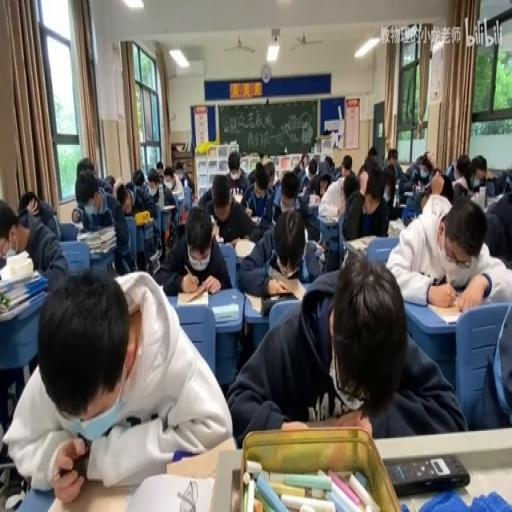calculator: (124, 471, 216, 512), (51, 469, 132, 512), (166, 435, 236, 479), (266, 273, 304, 302), (426, 302, 462, 324), (176, 287, 208, 306), (211, 302, 238, 322), (344, 235, 379, 250), (234, 236, 256, 258), (307, 238, 326, 260), (244, 293, 262, 314), (472, 184, 486, 209), (148, 248, 160, 273), (386, 218, 402, 236), (230, 186, 244, 204), (320, 213, 339, 225), (302, 200, 318, 214), (210, 222, 220, 240), (298, 186, 310, 199), (180, 206, 188, 222), (160, 204, 174, 210), (403, 189, 415, 196), (250, 215, 260, 223), (217, 235, 224, 243)
paper: (9, 263, 231, 499), (224, 250, 459, 444), (386, 190, 510, 312), (235, 199, 322, 292), (152, 202, 230, 296), (2, 194, 68, 292), (464, 290, 510, 430), (75, 166, 134, 274), (342, 155, 389, 240), (130, 168, 164, 260), (408, 170, 450, 220), (306, 156, 334, 196), (223, 151, 249, 193), (445, 154, 470, 196), (485, 164, 512, 199), (382, 145, 404, 179), (114, 181, 134, 216), (212, 175, 230, 212), (17, 192, 39, 218), (173, 160, 192, 190), (279, 173, 298, 202), (340, 154, 356, 180), (75, 155, 93, 178), (472, 156, 486, 180), (405, 160, 420, 178), (426, 154, 438, 174), (131, 168, 144, 186), (50, 214, 59, 240), (264, 159, 274, 181), (155, 159, 164, 178), (416, 169, 429, 182), (385, 181, 394, 199), (331, 165, 341, 181), (103, 175, 115, 188), (293, 164, 302, 180), (254, 162, 264, 176), (366, 145, 376, 157), (414, 154, 425, 164), (259, 154, 270, 164), (164, 176, 173, 188), (358, 163, 366, 175), (309, 162, 316, 175), (301, 154, 307, 169)
person: (384, 452, 470, 494)
